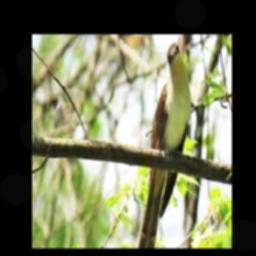Cuckoo: (137, 44, 191, 248)
